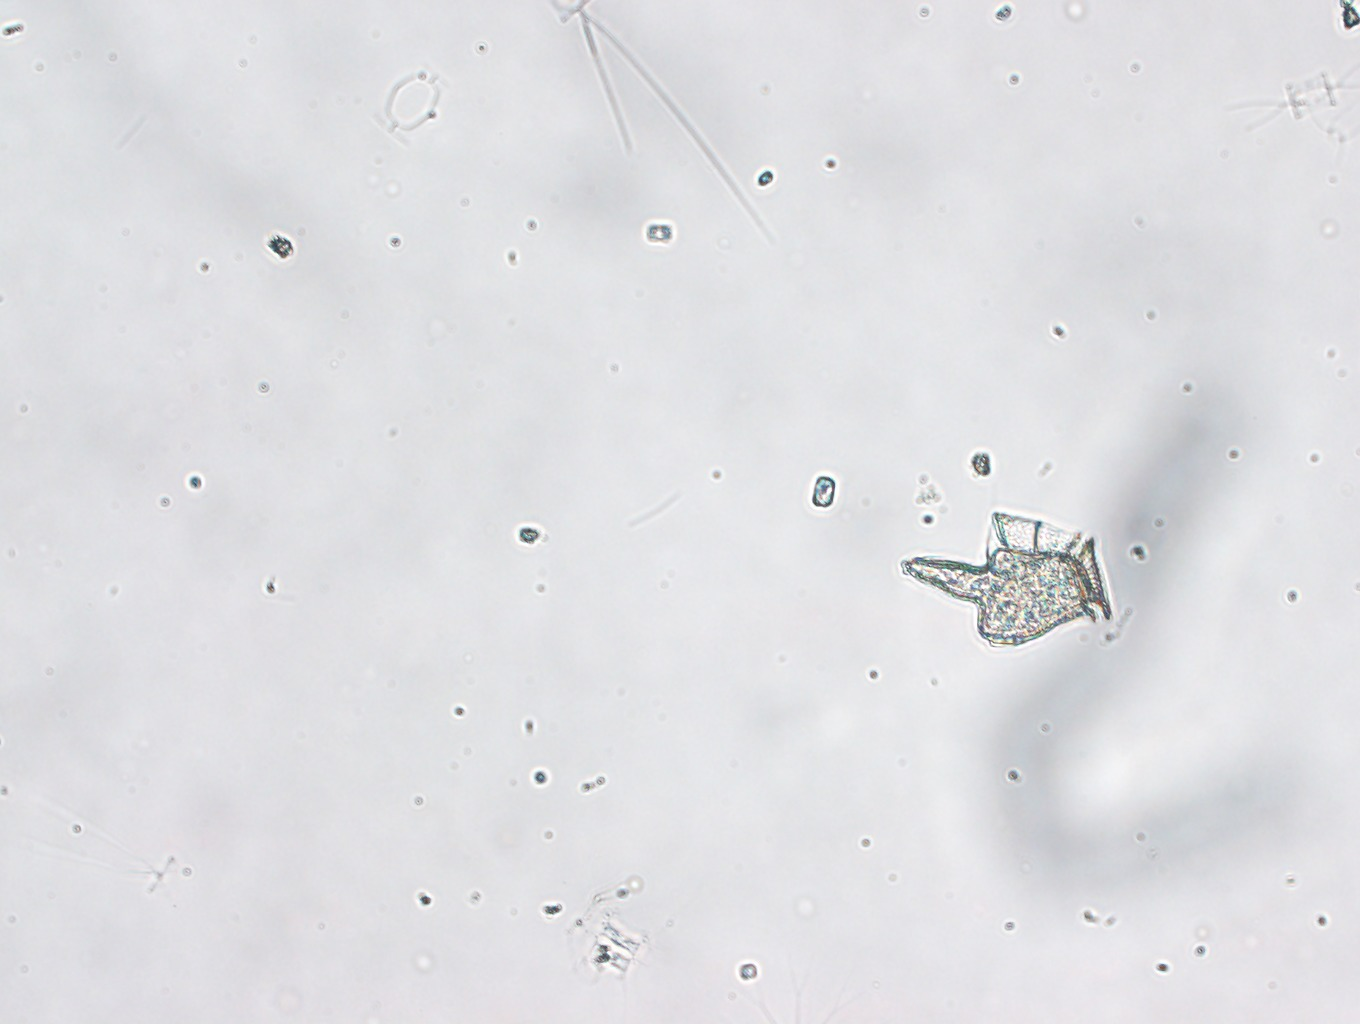dinophysis caudata: (899, 511, 1115, 646)
